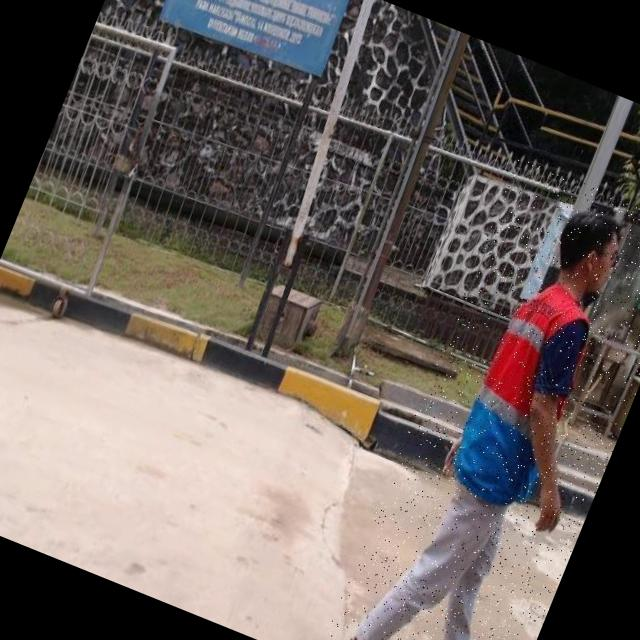safety_vest: (440, 270, 612, 518)
vehicle: (314, 156, 640, 640)
work_boots: (324, 626, 412, 640)
